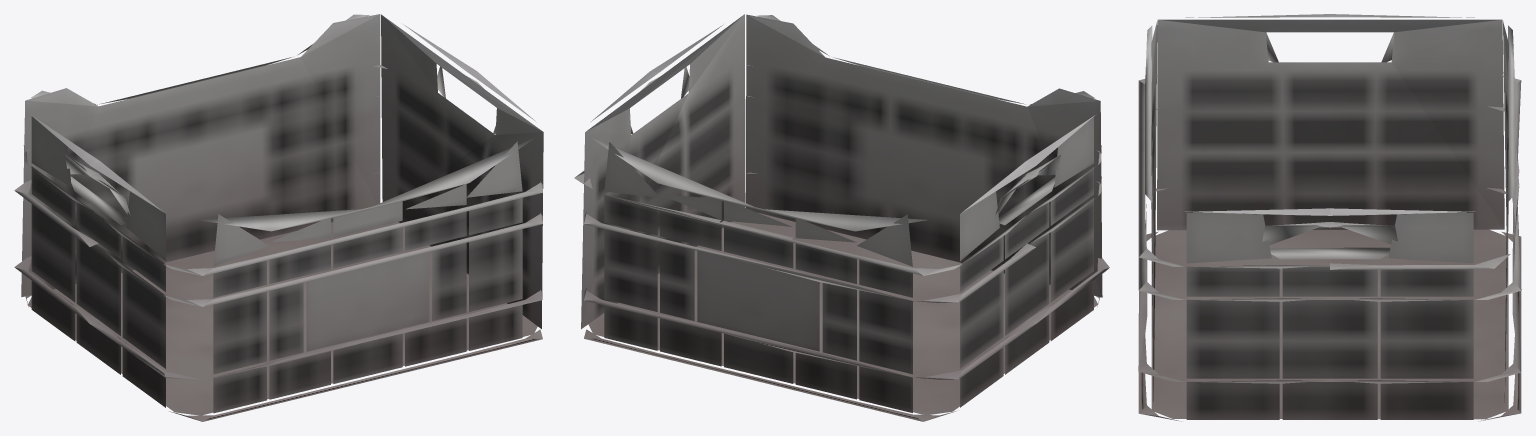
The model's file is plastic_crate_02.glb.
3 views of the same model, side by side, from view 1: azimuth 30°, elevation 25°; view 2: azimuth 150°, elevation 25°; view 3: azimuth 270°, elevation 25° (orthographic). The views are drawn at different scales.
Visible parts, largest first — view 1: plastic_crate_02; view 2: plastic_crate_02; view 3: plastic_crate_02.
Boxes of the visible parts, x1,y1,x2,y2 form: plastic_crate_02: (14,14,543,421); plastic_crate_02: (574,14,1109,421); plastic_crate_02: (1138,14,1521,421).
Size of the model in its own units: 0.5055 by 0.252 by 0.4049.
1 material, 1 textured.
